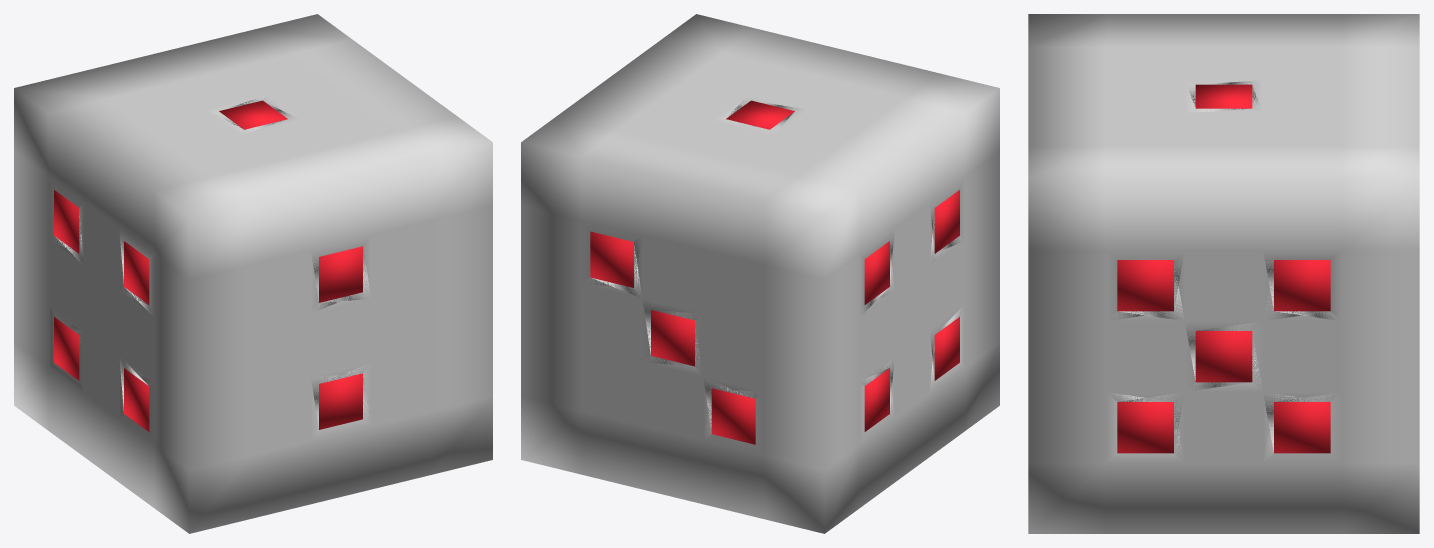
The model's file is moving dice.dae.
3 views of the same model, side by side, from view 1: azimuth 30°, elevation 25°; view 2: azimuth 150°, elevation 25°; view 3: azimuth 270°, elevation 25° (orthographic). The views are drawn at different scales.
Visible parts, largest first — view 1: Cube; view 2: Cube; view 3: Cube.
Part boxes in pixels (x1=…): Cube: x1=14, y1=14, x2=492, y2=533; Cube: x1=521, y1=14, x2=999, y2=533; Cube: x1=1028, y1=14, x2=1419, y2=533.
Size of the model in its own units: 2 by 2 by 2.
